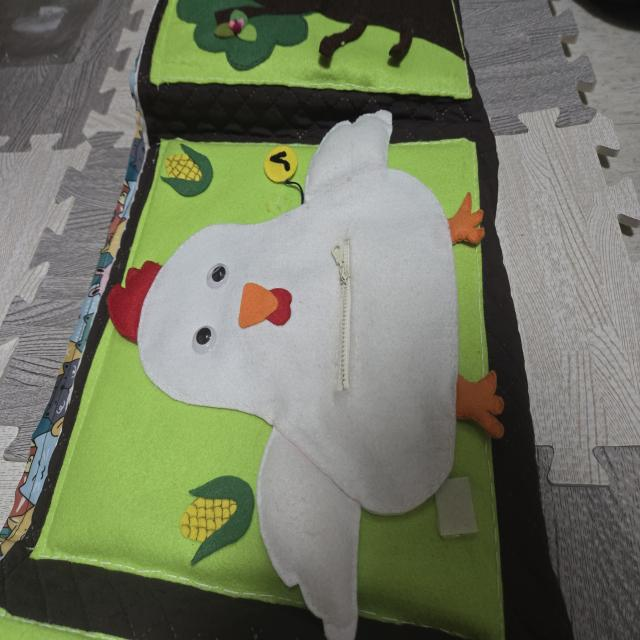zip_body: (339, 241, 354, 394)
zip_head: (329, 244, 352, 290)
